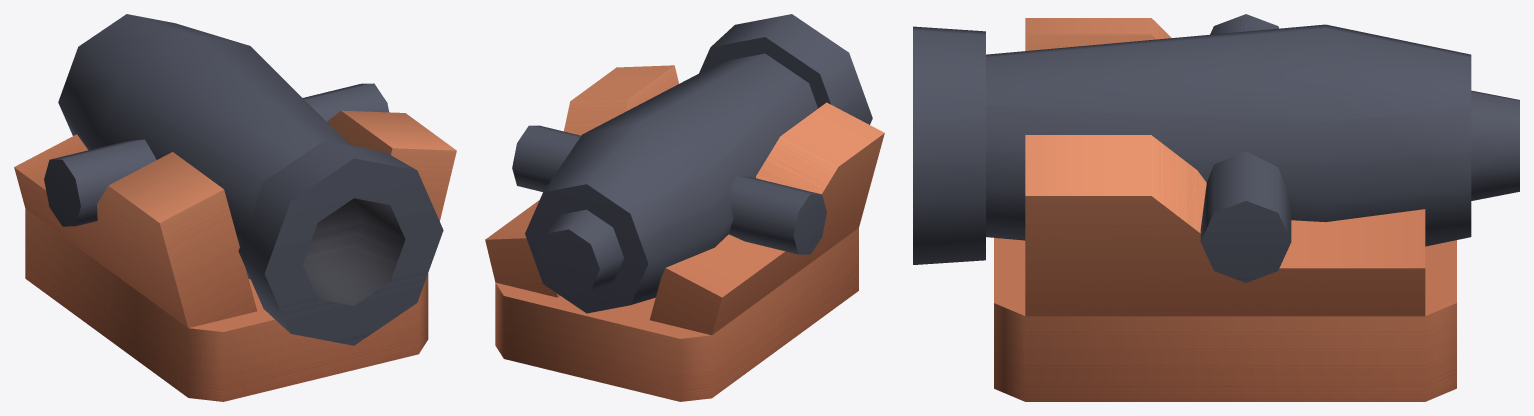
Rendered from cannon.glb.
3 views of the same model, side by side, from view 1: azimuth 30°, elevation 25°; view 2: azimuth 150°, elevation 25°; view 3: azimuth 270°, elevation 25° (orthographic). The views are drawn at different scales.
Visible parts, largest first — view 1: cannon, Group, Group.001; view 2: cannon, Group, Group.001; view 3: cannon, Group.001, Group.
Boxes of the visible parts, bbox=[...] form: cannon: bbox=[25, 14, 443, 401]; Group: bbox=[14, 134, 257, 327]; Group.001: bbox=[327, 110, 456, 221]; cannon: bbox=[495, 14, 872, 401]; Group: bbox=[649, 102, 884, 335]; Group.001: bbox=[485, 65, 678, 297]; cannon: bbox=[913, 14, 1519, 401]; Group.001: bbox=[1025, 135, 1425, 316]; Group: bbox=[1025, 18, 1171, 50].
Bounding box in the file's own units: 1.4 × 1.05 × 1.92.
1 material, 1 textured.
